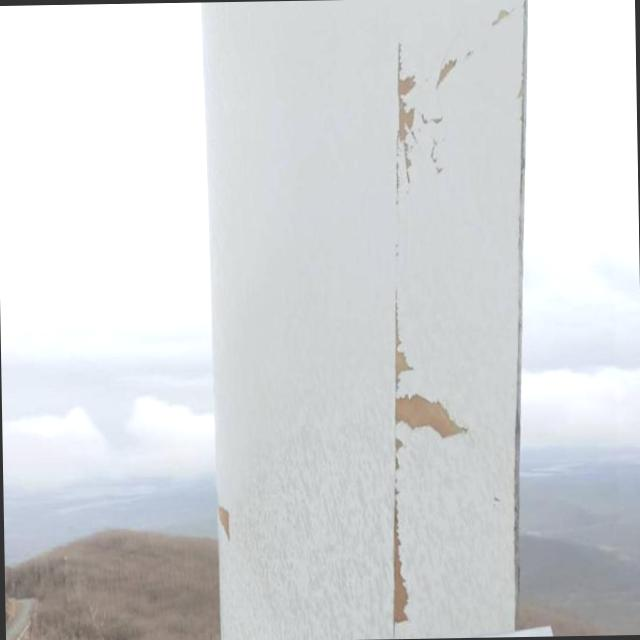corrosion: (388, 389, 473, 439)
surface_peeling: (390, 48, 434, 196), (386, 492, 412, 628), (389, 323, 414, 382), (433, 54, 466, 86), (214, 504, 236, 540), (488, 4, 514, 28)
